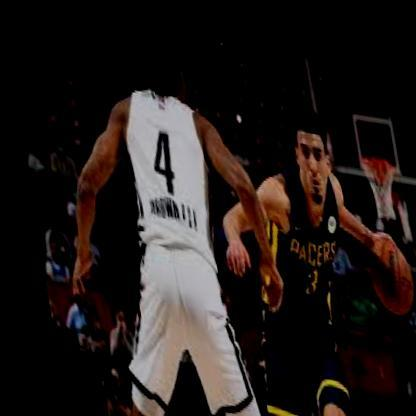basketball: (357, 219, 411, 306)
rim: (355, 136, 393, 165)
